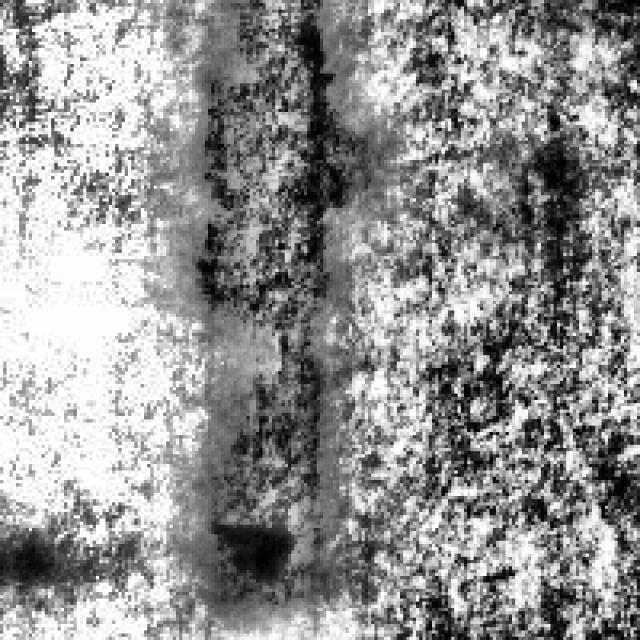Scratches: (176, 0, 365, 608)
